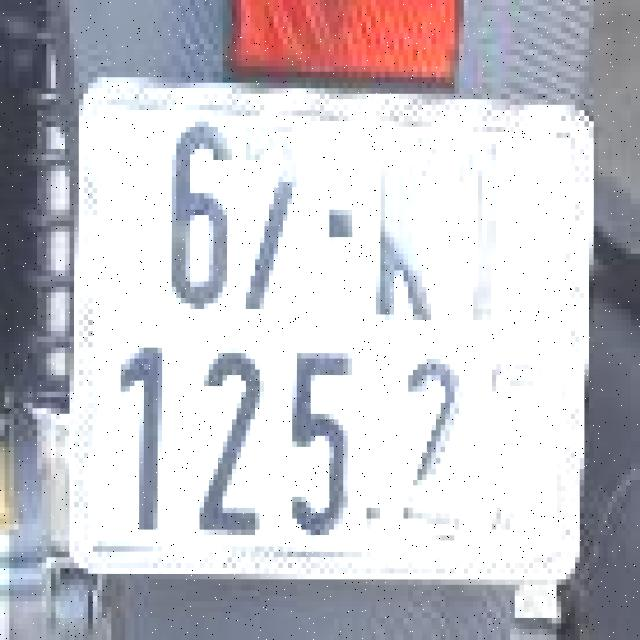1: (118, 326, 174, 540), (452, 121, 503, 336)
2: (190, 328, 264, 544), (389, 345, 464, 554)
5: (274, 340, 362, 544)
6: (153, 108, 237, 317)
7: (239, 100, 308, 314), (478, 345, 552, 543)
K: (362, 108, 441, 334)
